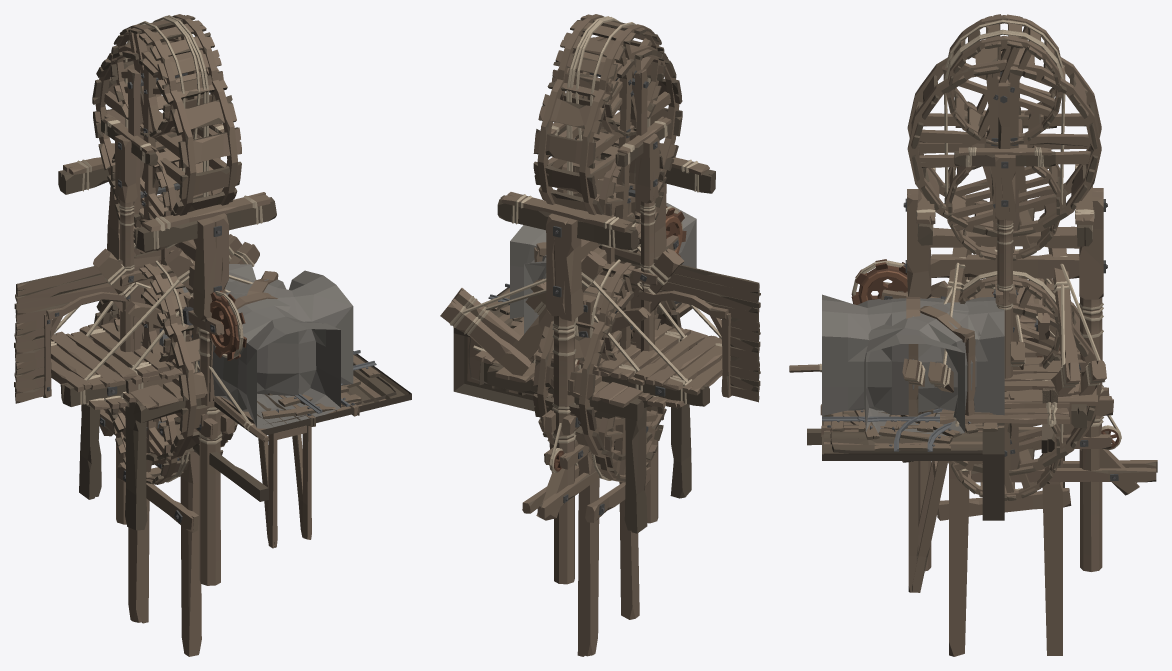
Rendered from Wood.fbx.
The picture shows the model from 3 angles, left to right: view 1: azimuth 30°, elevation 25°; view 2: azimuth 150°, elevation 25°; view 3: azimuth 270°, elevation 25°; orthographic projection. The views are drawn at different scales.
Parts seen in each view (by area): view 1: SM_Env_Wood_Construction_Wheel_03, SM_Env_Wood_Supports_02, SM_Env_Wood_Construction_Wheel_01, SM_Env_Wood_Bridge_Start_01, SM_Env_MineTunnel_Straight_01, SM_Env_MineTunnel_Corner_01, SM_Env_MineTunnel_Entrance_01, SM_Env_Wood_Supports_01, SM_Env_Wood_Construction_Wheel_02, SM_Env_Wood_Construction_Wheel_04, SM_Env_Wood_Construction_01, SM_Env_Basement_Ceiling_01 (+8 smaller); view 2: SM_Env_Wood_Bridge_Start_01, SM_Env_Wood_Construction_Wheel_01, SM_Env_Wood_Supports_02, SM_Env_Wood_Construction_Wheel_03, SM_Env_MineTunnel_Entrance_01, SM_Env_Wood_Supports_01, SM_Env_Wood_Construction_Wheel_02, SM_Env_Wood_Construction_Wheel_04, SM_Env_Wood_Construction_01, SM_Env_MineTunnel_Corner_01, SM_Env_Basement_WallPanel_01, SM_Env_Wood_Platform_02 (+3 smaller); view 3: SM_Env_Wood_Construction_Wheel_01, SM_Env_Wood_Construction_Wheel_03, SM_Env_MineTunnel_Straight_01, SM_Env_Wood_Supports_02, SM_Env_Wood_Supports_01, SM_Env_Wood_Bridge_Start_01, SM_Env_Wood_Construction_01, SM_Env_MineTunnel_Corner_01, SM_Env_Wood_Construction_Wheel_04, SM_Env_Basement_Ceiling_01, SM_Env_Wood_Construction_Wheel_02, SM_Env_Basement_WallPanel_01 (+10 smaller).
Boxes of the visible parts, x1=… form: SM_Env_Wood_Construction_Wheel_03: x1=101, y1=14, x2=224, y2=352; SM_Env_Wood_Supports_02: x1=58, y1=157, x2=276, y2=585; SM_Env_Wood_Construction_Wheel_01: x1=92, y1=38, x2=241, y2=349; SM_Env_Wood_Bridge_Start_01: x1=51, y1=223, x2=259, y2=530; SM_Env_MineTunnel_Straight_01: x1=197, y1=264, x2=340, y2=428; SM_Env_MineTunnel_Corner_01: x1=182, y1=270, x2=353, y2=395; SM_Env_MineTunnel_Entrance_01: x1=14, y1=250, x2=161, y2=403; SM_Env_Wood_Supports_01: x1=117, y1=291, x2=201, y2=656; SM_Env_Wood_Construction_Wheel_02: x1=94, y1=285, x2=237, y2=464; SM_Env_Wood_Construction_Wheel_04: x1=111, y1=260, x2=223, y2=484; SM_Env_Wood_Construction_01: x1=81, y1=287, x2=246, y2=469; SM_Env_Basement_Ceiling_01: x1=214, y1=351, x2=411, y2=437; SM_Env_Wood_Bridge_Start_01: x1=440, y1=223, x2=722, y2=533; SM_Env_Wood_Construction_Wheel_01: x1=533, y1=36, x2=682, y2=351; SM_Env_Wood_Supports_02: x1=497, y1=154, x2=715, y2=584; SM_Env_Wood_Construction_Wheel_03: x1=551, y1=14, x2=672, y2=344; SM_Env_MineTunnel_Entrance_01: x1=614, y1=248, x2=760, y2=402; SM_Env_Wood_Supports_01: x1=530, y1=278, x2=650, y2=656; SM_Env_Wood_Construction_Wheel_02: x1=533, y1=286, x2=681, y2=462; SM_Env_Wood_Construction_Wheel_04: x1=552, y1=259, x2=664, y2=482; SM_Env_Wood_Construction_01: x1=522, y1=206, x2=686, y2=520; SM_Env_MineTunnel_Corner_01: x1=510, y1=225, x2=546, y2=333; SM_Env_Basement_WallPanel_01: x1=453, y1=333, x2=534, y2=411; SM_Env_Wood_Platform_02: x1=487, y1=330, x2=711, y2=421; SM_Env_Wood_Construction_Wheel_01: x1=907, y1=44, x2=1101, y2=378; SM_Env_Wood_Construction_Wheel_03: x1=944, y1=14, x2=1065, y2=378; SM_Env_MineTunnel_Straight_01: x1=822, y1=291, x2=1004, y2=416; SM_Env_Wood_Supports_02: x1=903, y1=164, x2=1113, y2=571; SM_Env_Wood_Supports_01: x1=937, y1=277, x2=1071, y2=656; SM_Env_Wood_Bridge_Start_01: x1=902, y1=247, x2=1106, y2=487; SM_Env_Wood_Construction_01: x1=851, y1=259, x2=1157, y2=495; SM_Env_MineTunnel_Corner_01: x1=864, y1=297, x2=995, y2=435; SM_Env_Wood_Construction_Wheel_04: x1=948, y1=271, x2=1063, y2=500; SM_Env_Basement_Ceiling_01: x1=822, y1=410, x2=1004, y2=460; SM_Env_Wood_Construction_Wheel_02: x1=953, y1=286, x2=1101, y2=476; SM_Env_Basement_WallPanel_01: x1=982, y1=423, x2=1004, y2=520.
Size of the model in its own units: 996 by 1009 by 1899.
